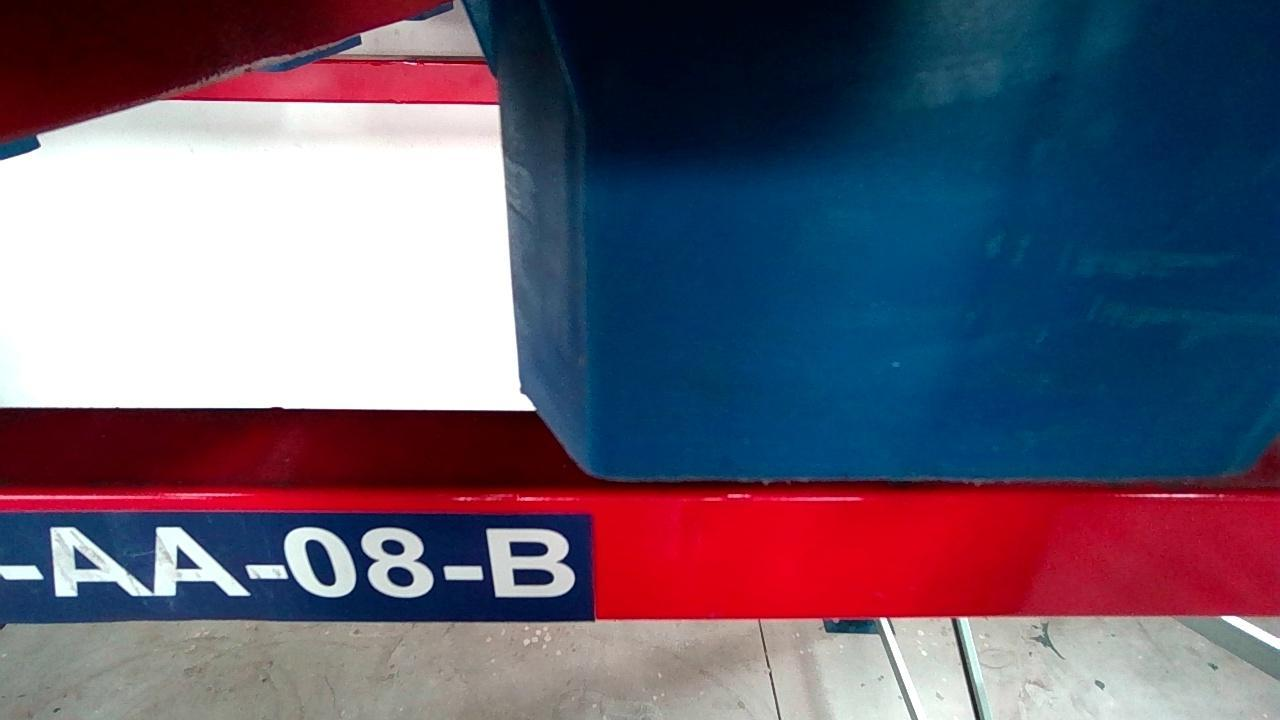h_rack: (2, 494, 1274, 623)
